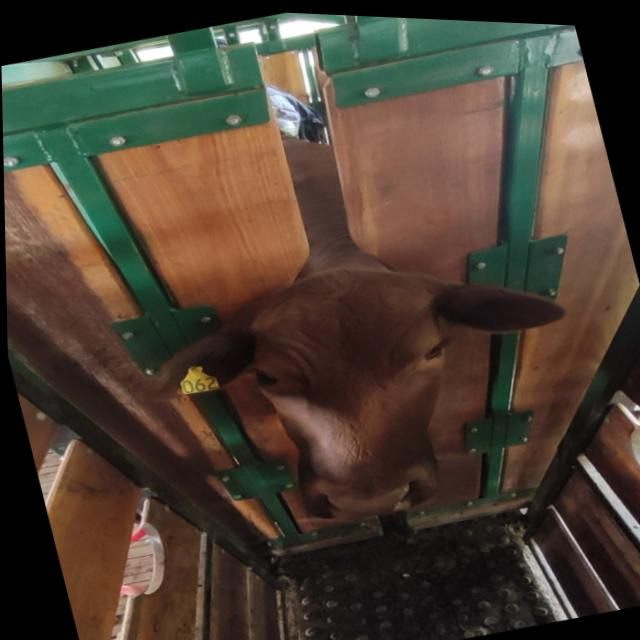cowFace: (232, 244, 489, 538)
